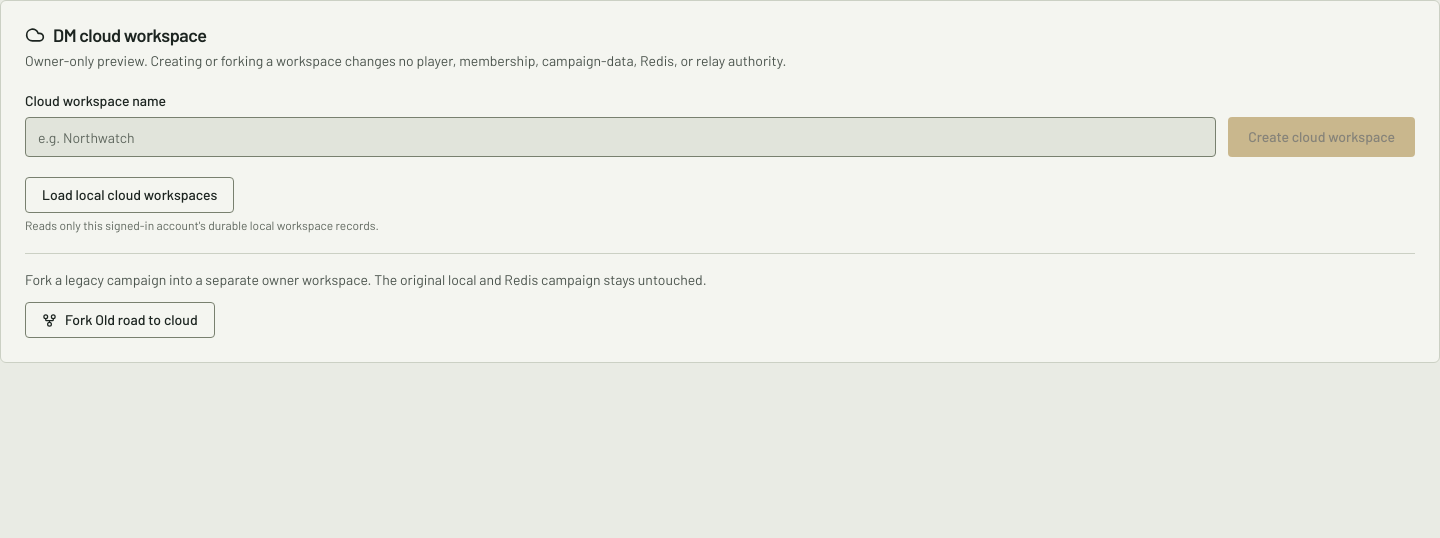
Test case: DmCloudWorkspaceControls › forks into a new code and states that the legacy campaign was not changed
The image size is (1440, 538).
Step 1. Click the button "Fork Old road to cloud" → (120, 320), box [25,302,215,338]
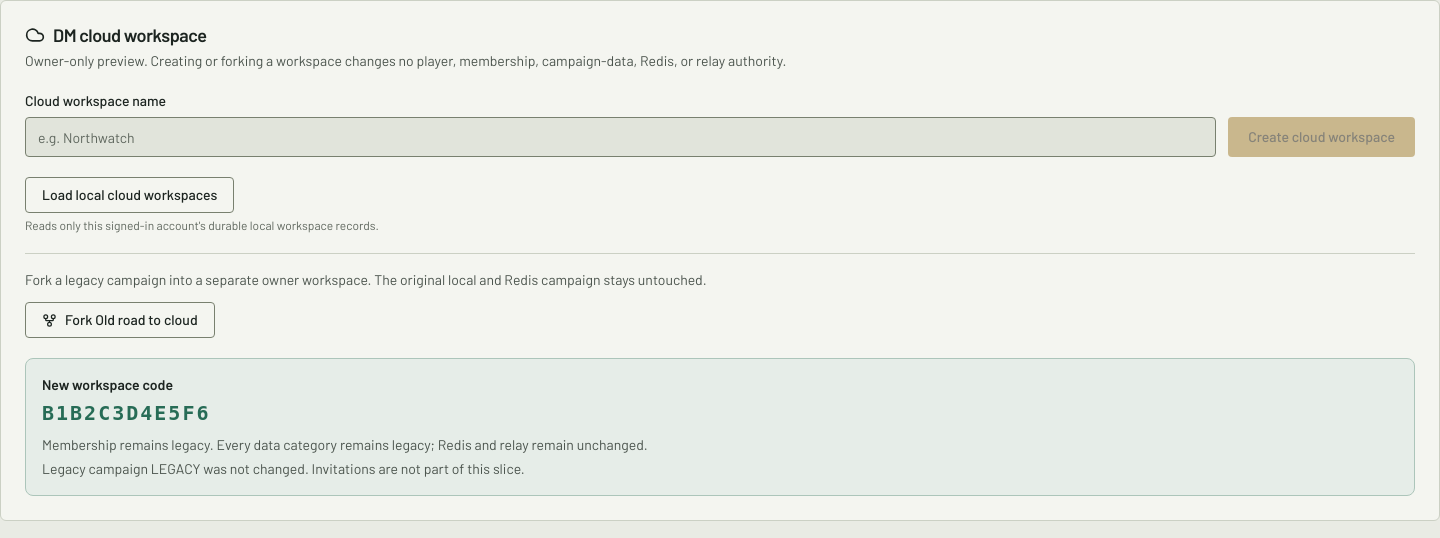
Expected: the text "B1B2C3D4E5F6" is shown, [42,401,210,425]
Expected: the text "Legacy campaign LEGACY was not changed" is shown, [42,460,525,477]
Expected: the text "Invitations are not part of this slice" is shown, [200,460,525,477]
